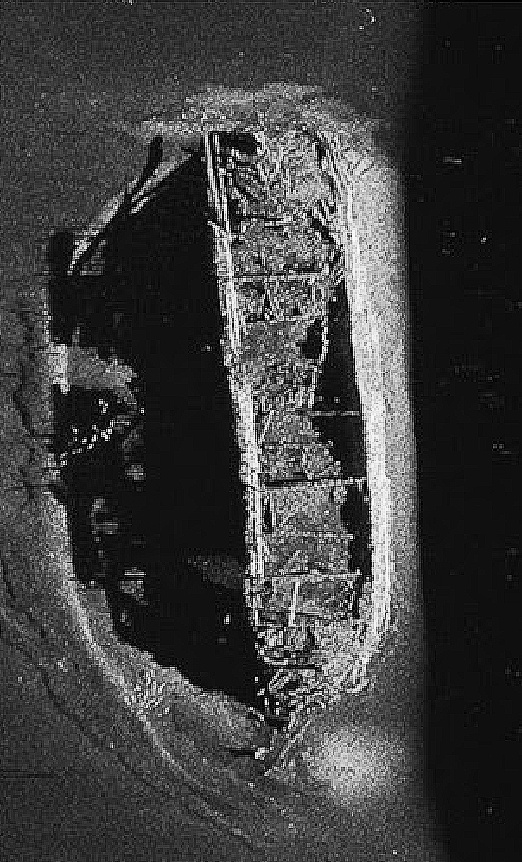ship: (200, 116, 398, 749)
